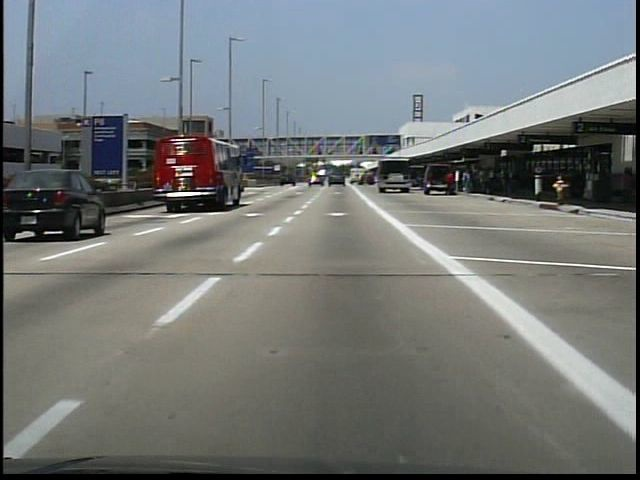person: (443, 168, 458, 201)
